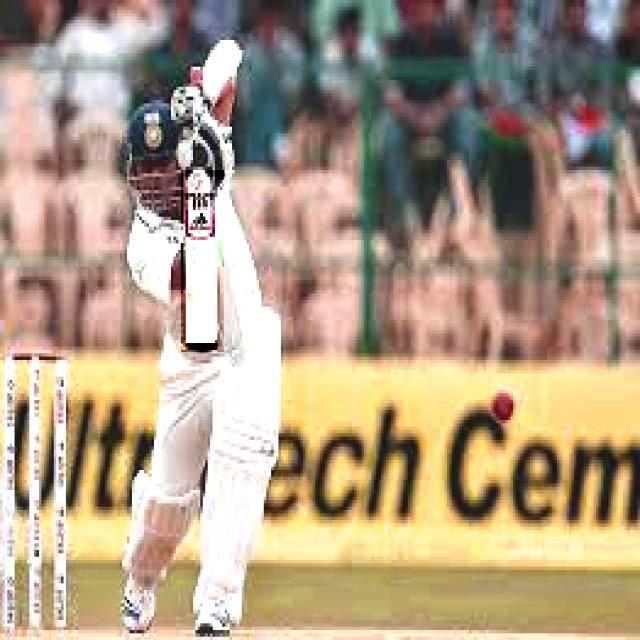bat: (177, 171, 228, 354)
toe: (180, 340, 223, 351)
